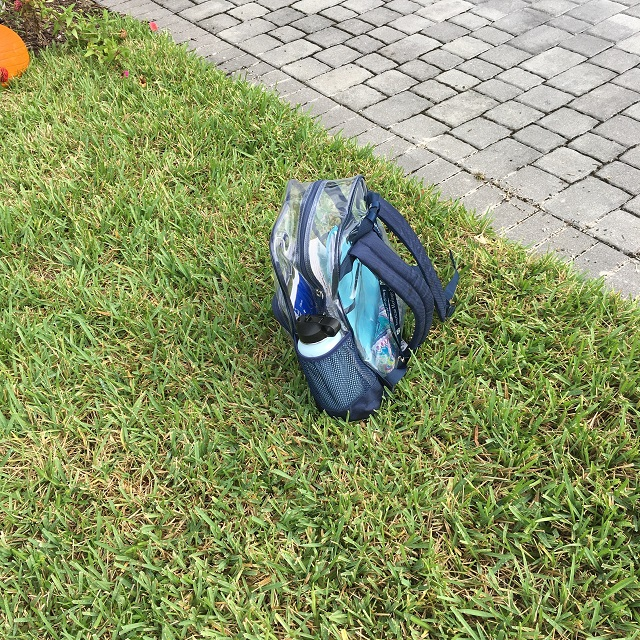clearbackpack: (261, 172, 460, 424)
